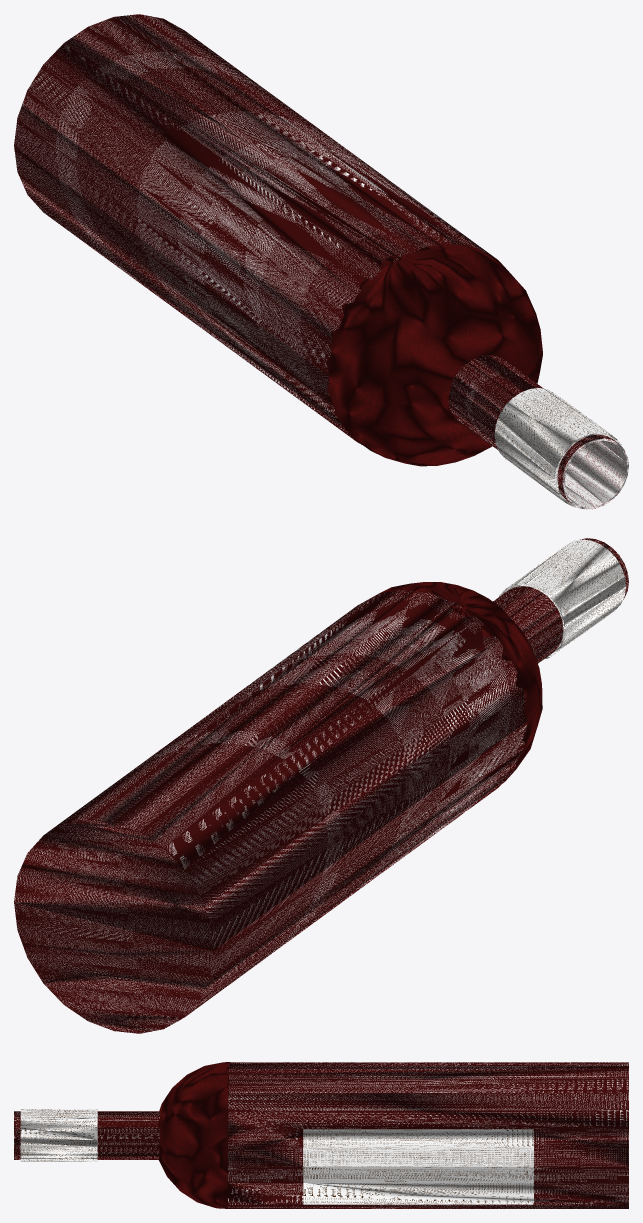
Rendered from model_align.obj.
The picture shows the model from 3 angles, top to bottom: view 1: azimuth 30°, elevation 25°; view 2: azimuth 150°, elevation 25°; view 3: azimuth 270°, elevation 25°; orthographic projection. The views are drawn at different scales.
Size of the model in its own units: 0.0496 by 0.0496 by 0.2076.
